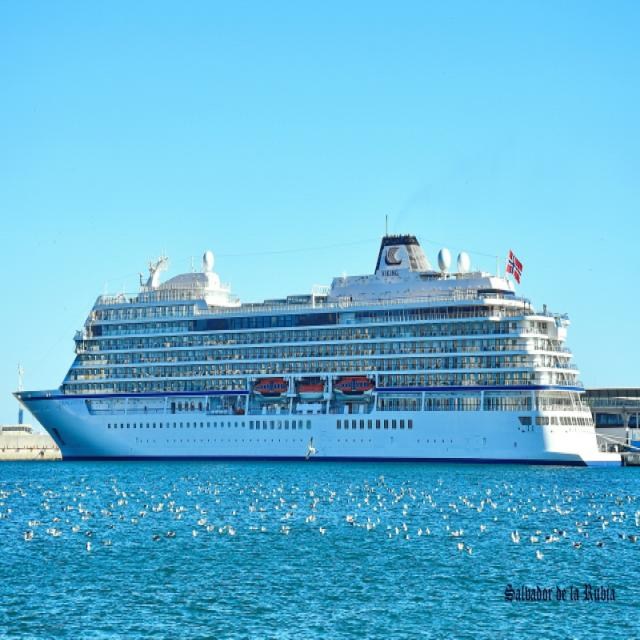cruises: (13, 212, 628, 478)
